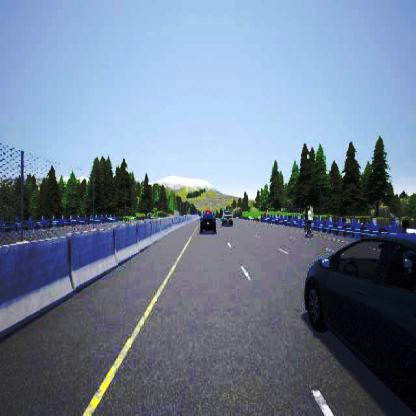bike: (302, 204, 314, 238)
vehicle: (304, 232, 416, 412), (199, 209, 216, 232), (220, 209, 233, 227)
